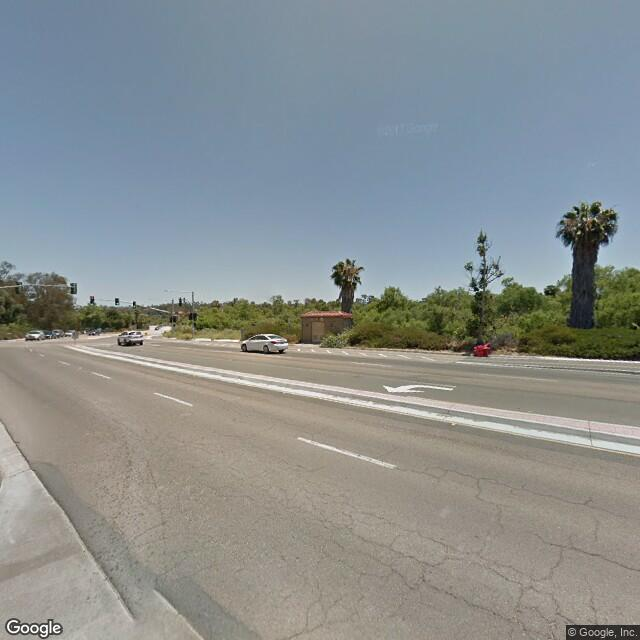litter: (449, 422, 459, 428)
